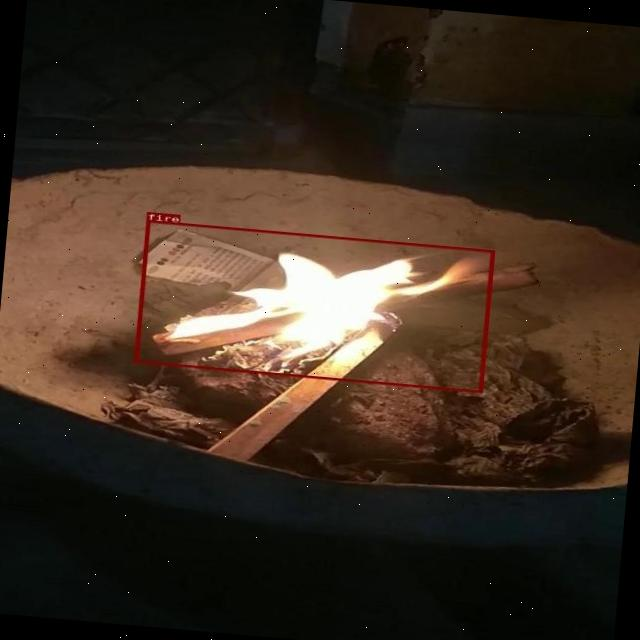fire: (132, 220, 494, 392)
